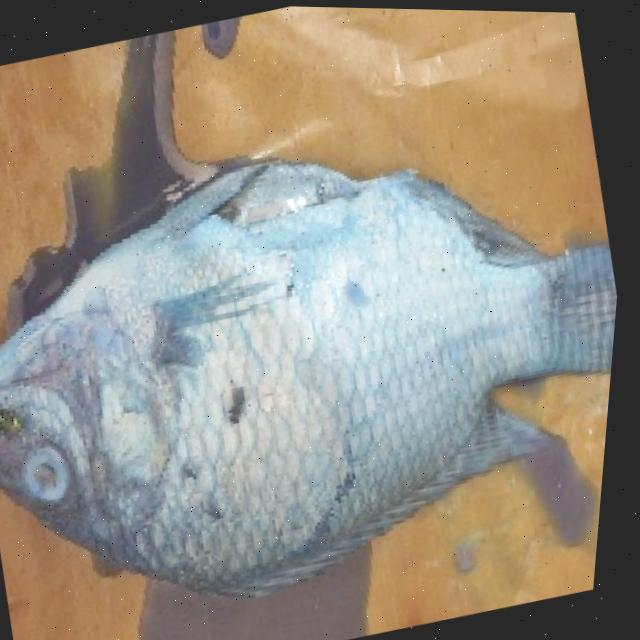Non-Fresh: (0, 99, 614, 640), (13, 429, 101, 510)
